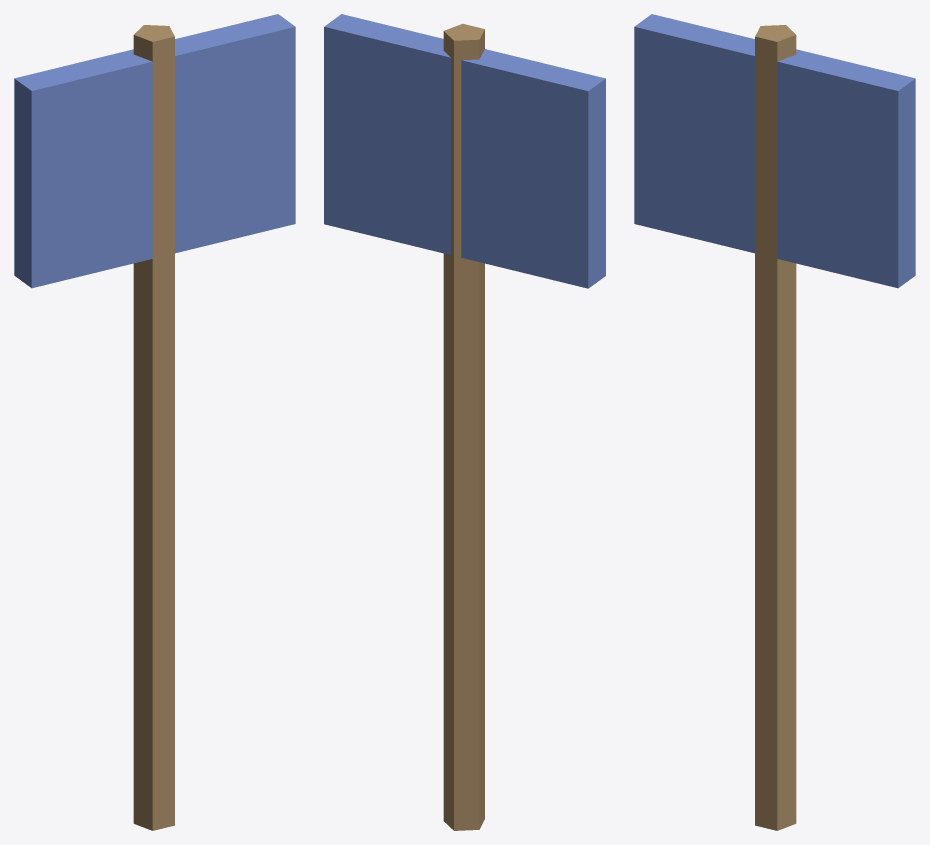
File: swatter_net.glb
The picture shows the model from 3 angles, left to right: view 1: azimuth 30°, elevation 25°; view 2: azimuth 150°, elevation 25°; view 3: azimuth 330°, elevation 25°; orthographic projection.
Visible parts, largest first — view 1: box, cyl; view 2: box, cyl; view 3: box, cyl.
Boxes of the visible parts, bbox=[...] form: box: bbox=[14, 14, 295, 288]; cyl: bbox=[133, 25, 174, 830]; box: bbox=[324, 14, 605, 288]; cyl: bbox=[443, 23, 484, 830]; box: bbox=[634, 14, 915, 288]; cyl: bbox=[755, 25, 796, 830].
Size of the model in its own units: 0.14 by 0.4 by 0.0181.
